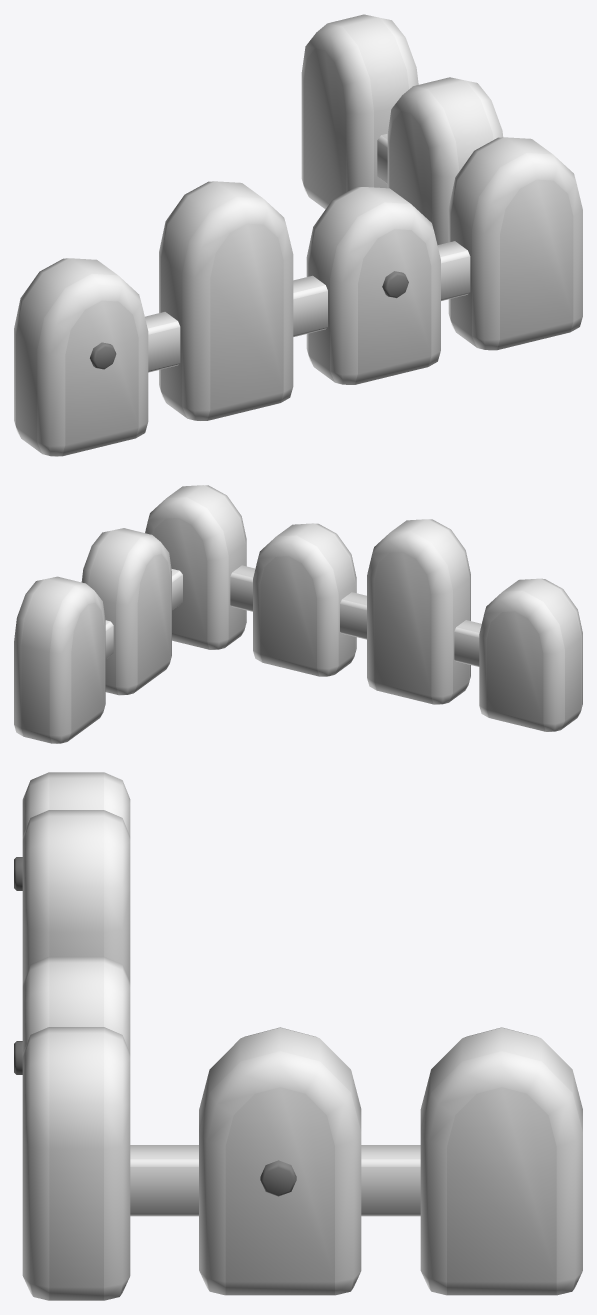
The model's file is fenche_1.fbx.
The picture shows the model from 3 angles, top to bottom: view 1: azimuth 30°, elevation 25°; view 2: azimuth 150°, elevation 25°; view 3: azimuth 270°, elevation 25°; orthographic projection. The views are drawn at different scales.
Parts seen in each view (by area): view 1: fenche_1; view 2: fenche_1; view 3: fenche_1.
Part boxes in pixels (box(x1,y1,x2,y2)): fenche_1: box(14, 14, 582, 456); fenche_1: box(14, 485, 582, 743); fenche_1: box(14, 772, 582, 1300).
Bounding box in the file's own units: 210 × 79.35 × 147.
Materials: 1 (1 with a texture image).
